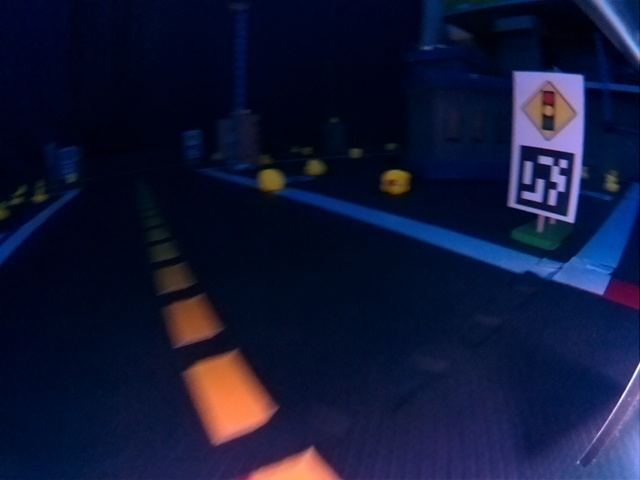Duckie: (382, 169, 408, 195), (258, 170, 286, 191), (604, 172, 620, 191), (306, 160, 324, 175), (347, 148, 362, 159)
QR code: (514, 143, 577, 220)
Signal sign: (516, 74, 581, 141)
